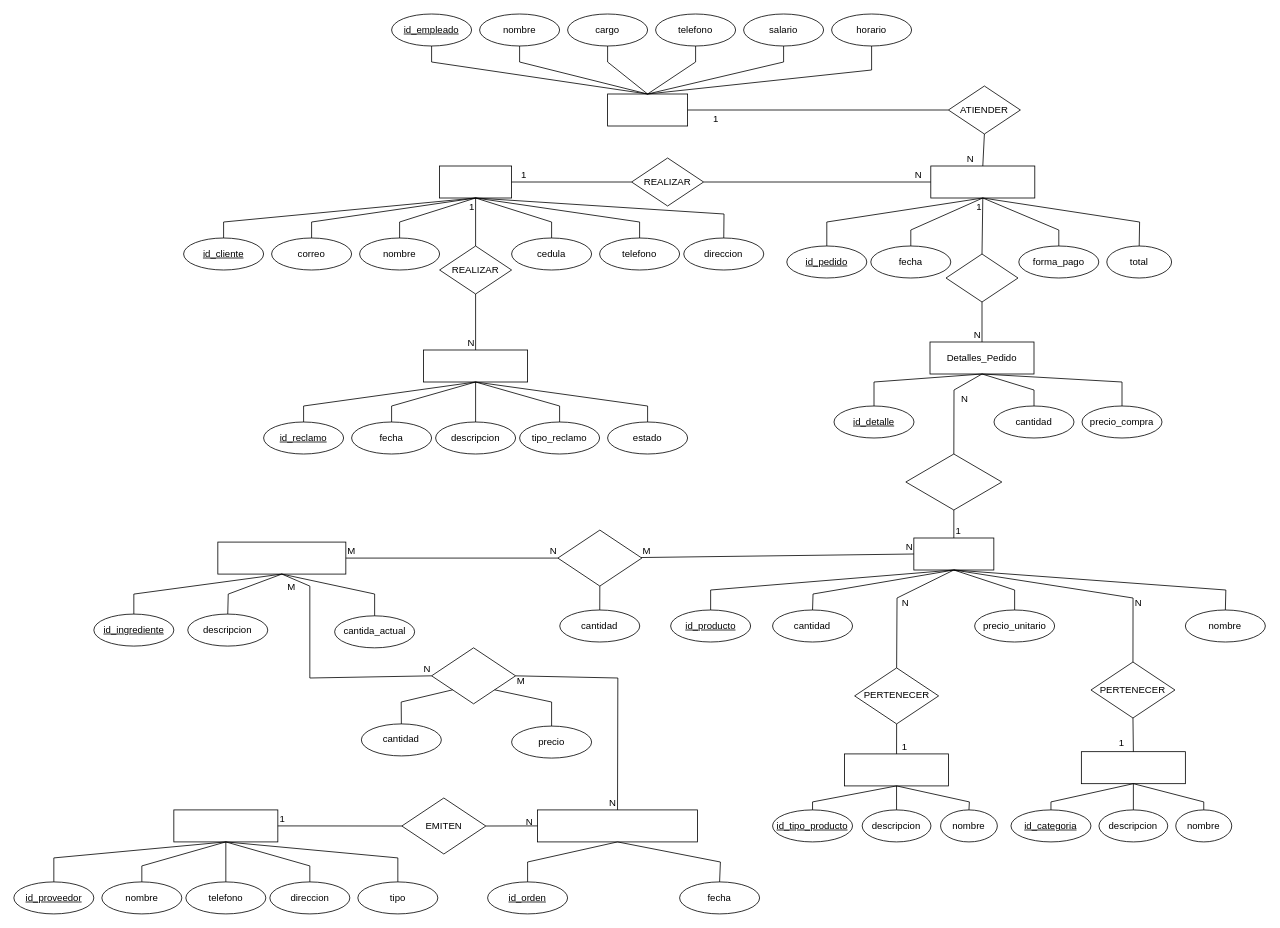
Image size: 1280x928. Some labels were removed from this diagram. The shapes that lost their labels are listed below. From the top down, each one's box as (x1, y1, x2, y2) in pixels, then its label:
(607, 93, 688, 126): Empleados
(439, 165, 512, 198): Clientes
(930, 165, 1035, 198): Pedidos
(945, 253, 1018, 302): TIENEN
(423, 349, 528, 382): Sugerencias
(905, 453, 1002, 510): CONTIENE
(217, 541, 346, 574): Ingredientes
(557, 529, 642, 586): COMPONEN
(913, 537, 994, 570): Productos
(431, 647, 516, 704): ABASTECE
(844, 753, 949, 786): Tipos_Producto
(1081, 751, 1185, 784): Categorias_Producto
(173, 809, 278, 842): Proveedores
(537, 809, 698, 842): Ordenes_Compra
